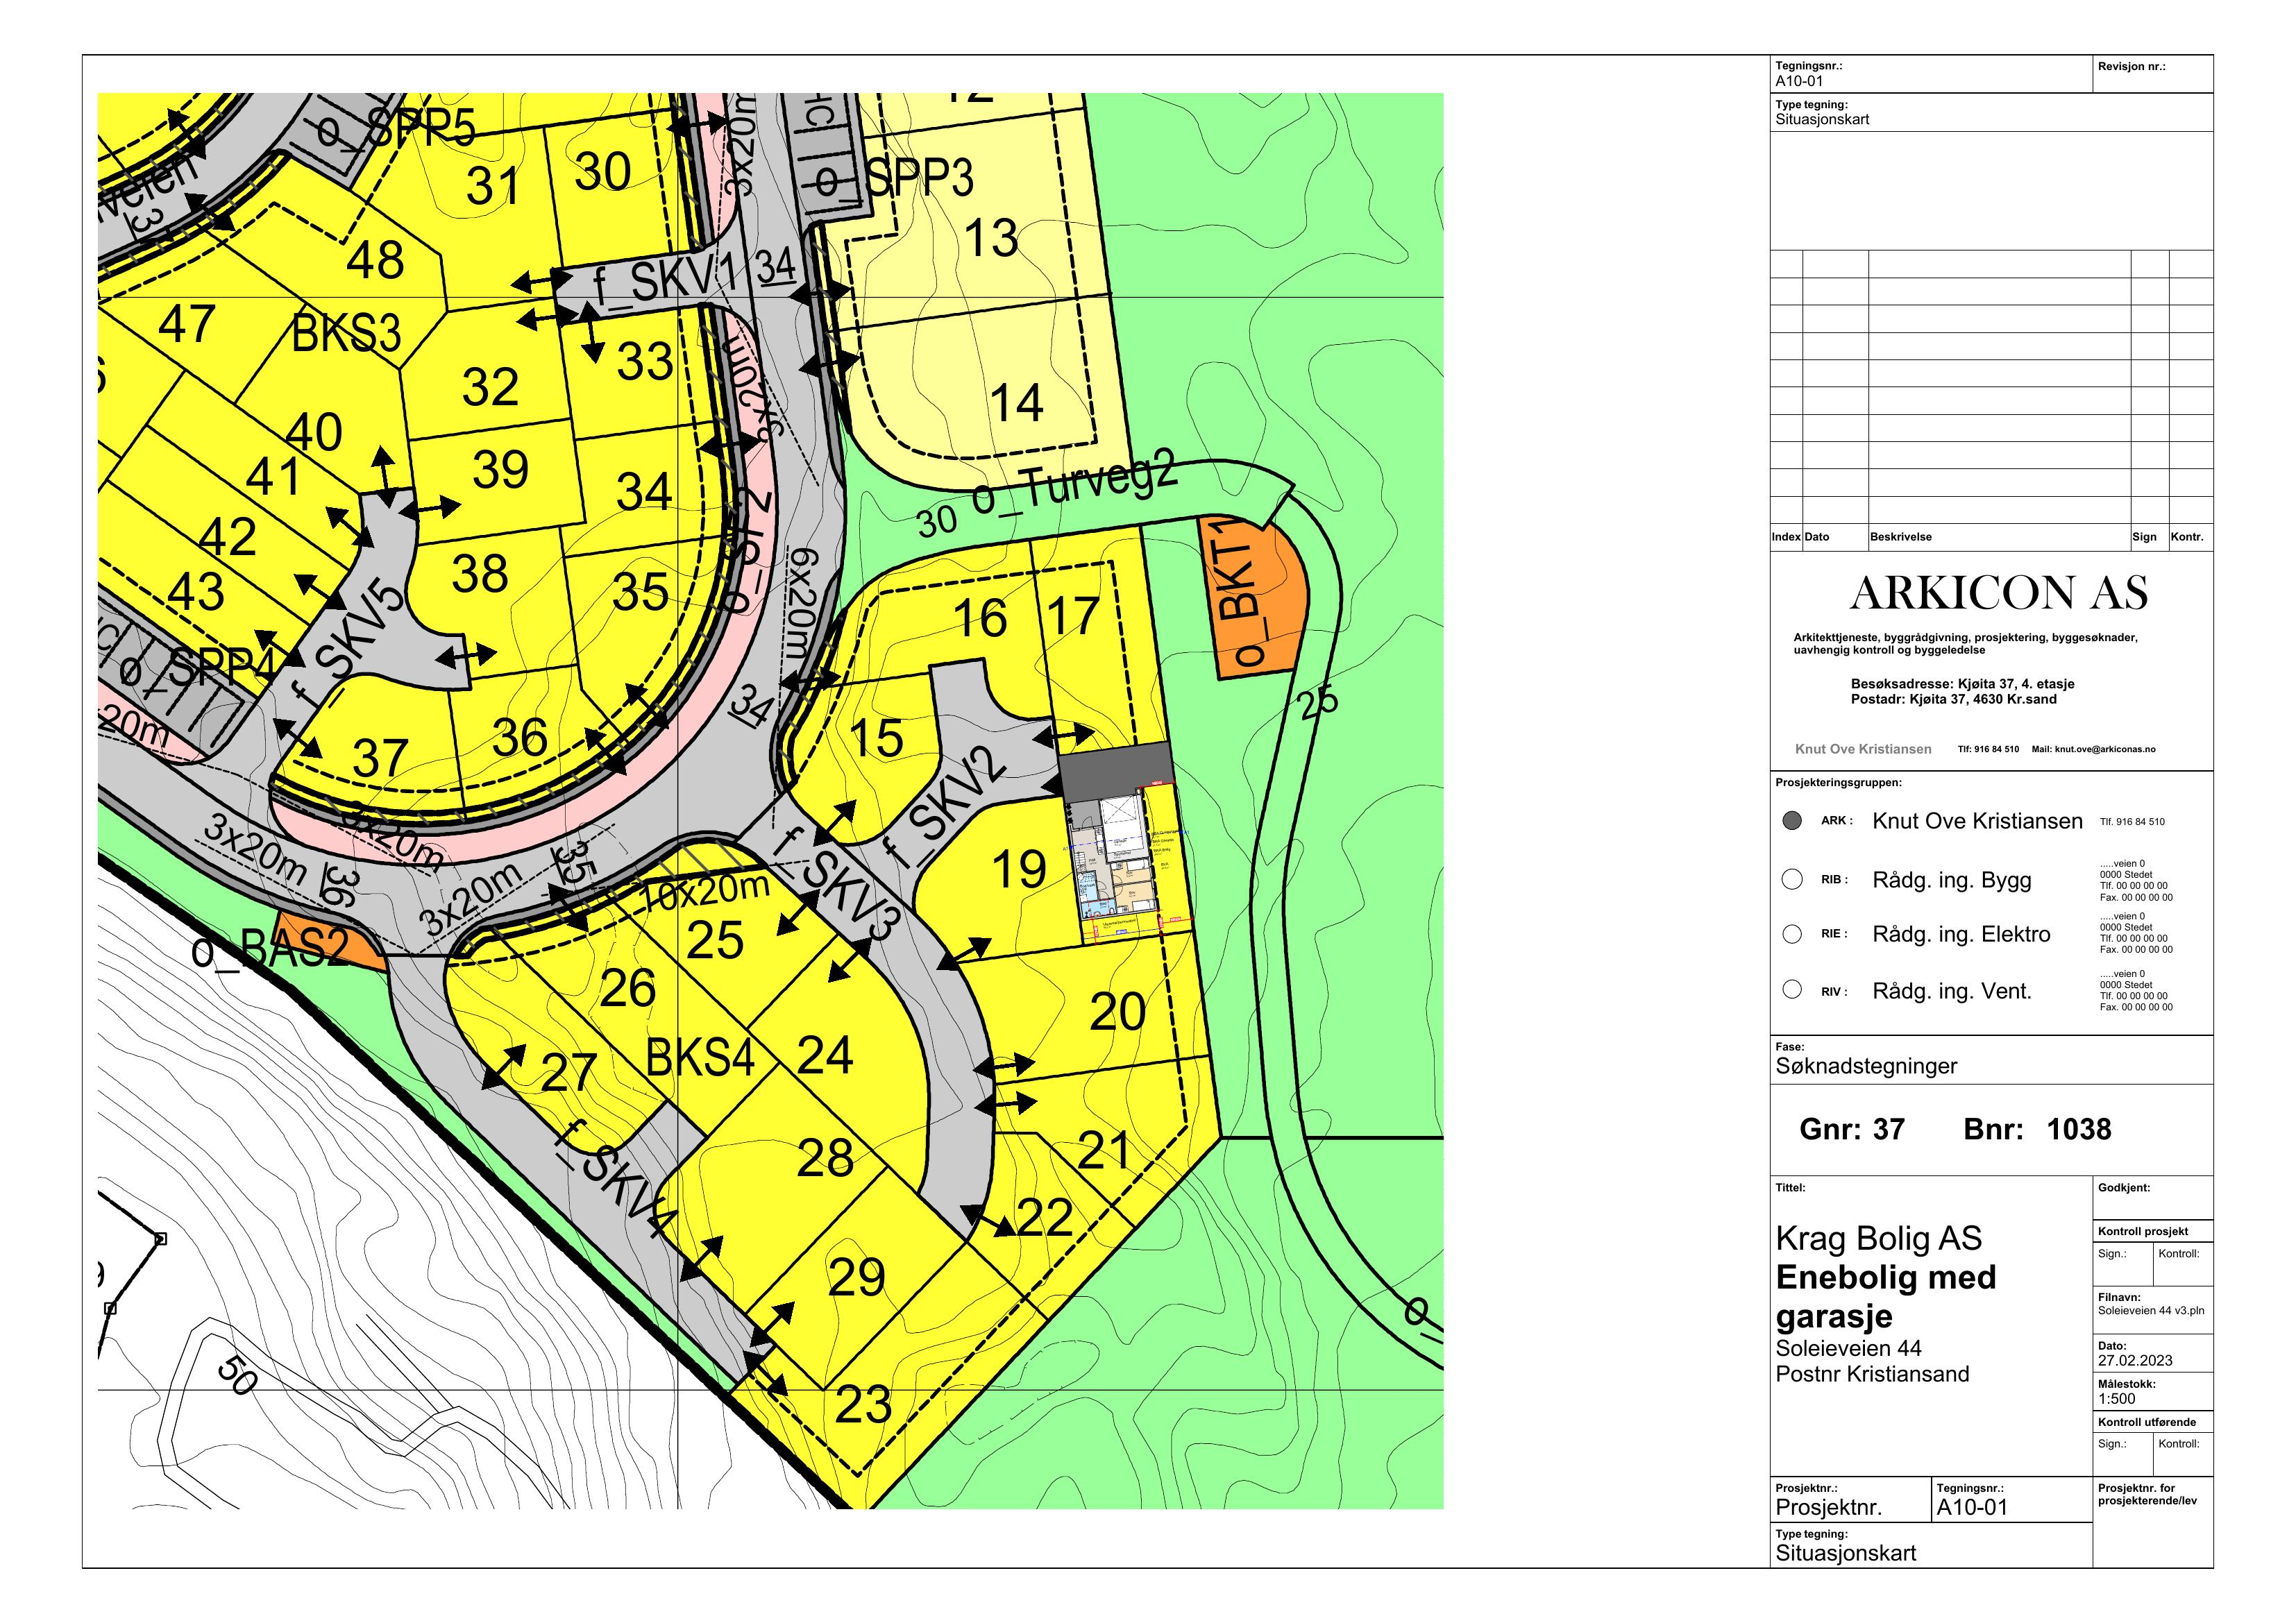situasjonskart: (100, 88, 1440, 1507)
